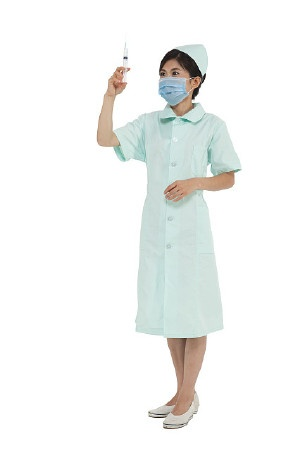Mask: (157, 65, 198, 107)
